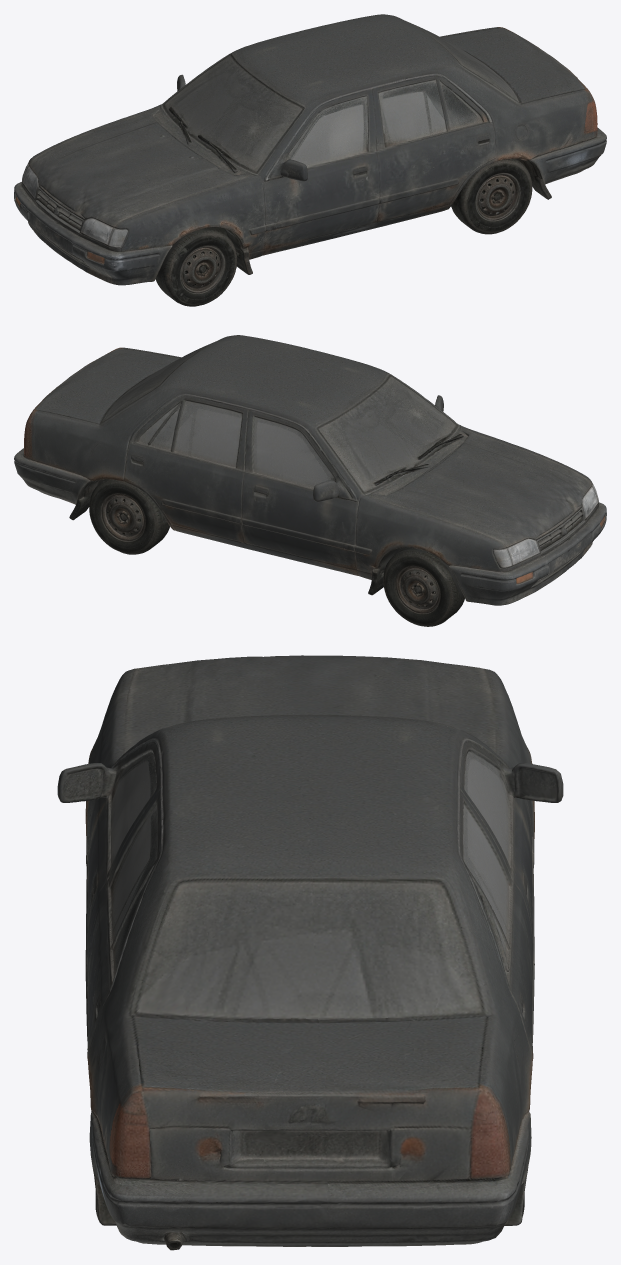
The model's file is car_sedan_light.glb.
The picture shows the model from 3 angles, top to bottom: view 1: azimuth 30°, elevation 25°; view 2: azimuth 150°, elevation 25°; view 3: azimuth 270°, elevation 25°; orthographic projection. The views are drawn at different scales.
Bounding box in the file's own units: 1.9 × 0.5968 × 0.8109.
1 material, 1 textured.
